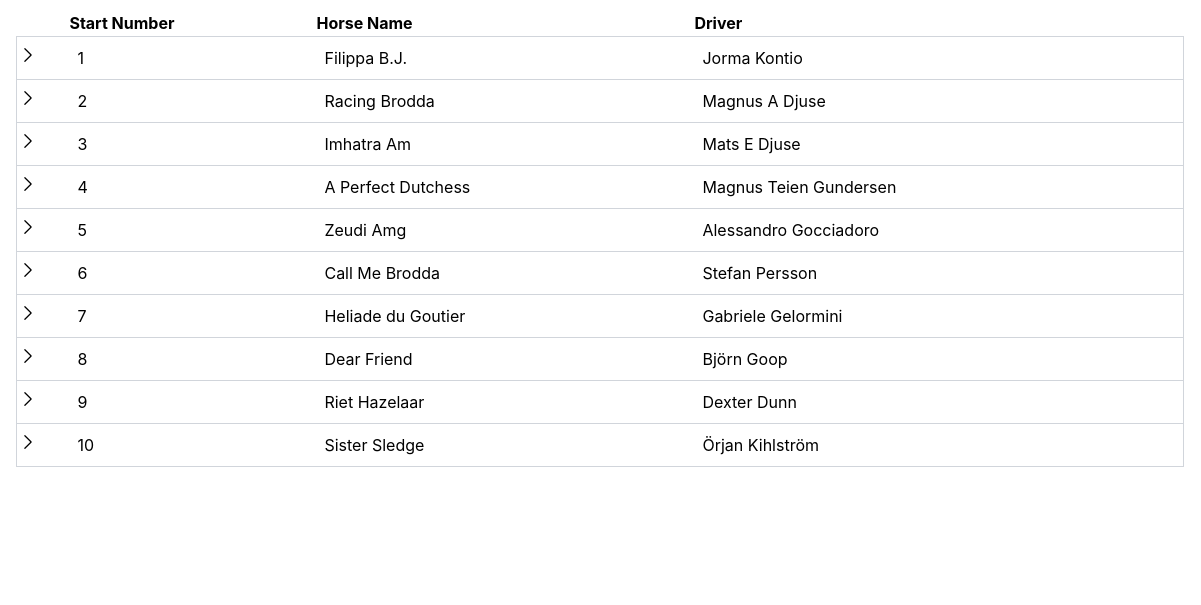
Test: test RaceHorses component › expands the race horse row when clicked on chevron right icon on row
This screenshot has width=1201, height=605.
Step 1. Click the button with test id "expand-horse-details" → (28, 55), box [18,45,38,65]
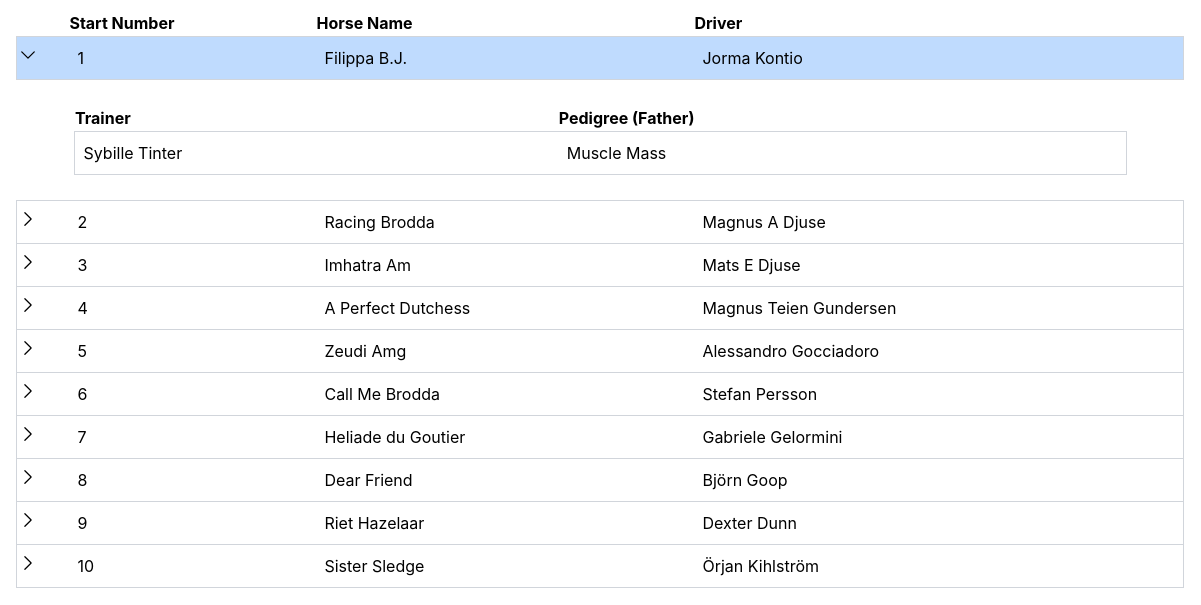
Now the cell "Muscle Mass" is shown, box [558,132,1126,174]
